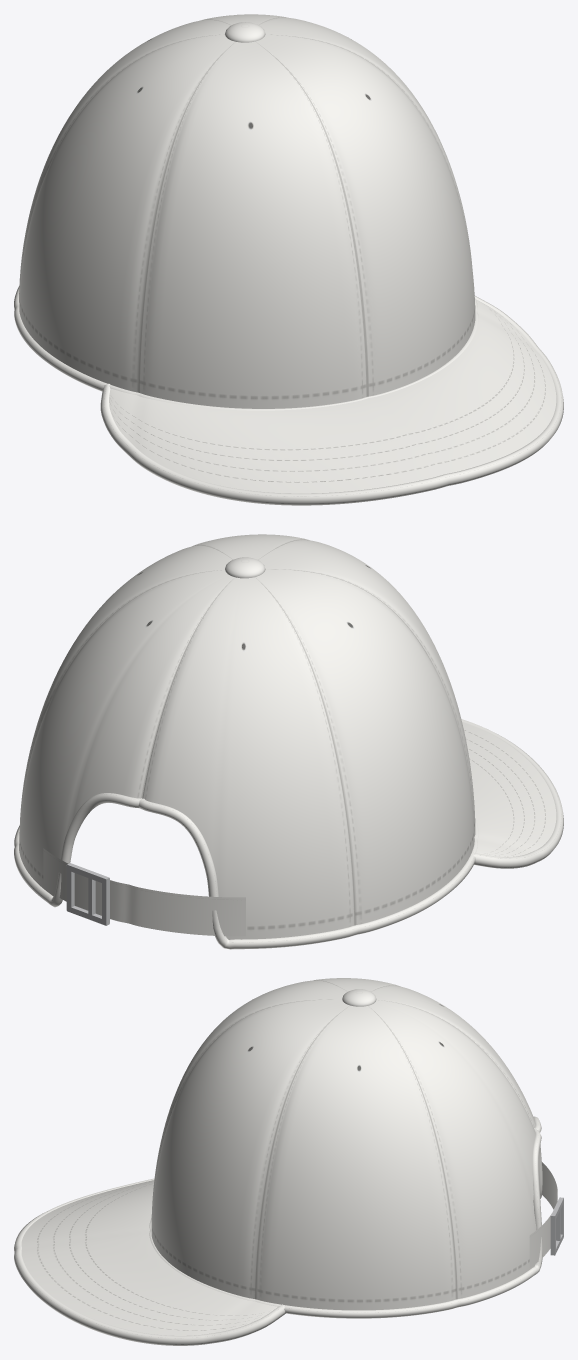
File: casquette.glb
3 renders of one model, top to bottom at view 1: azimuth 30°, elevation 25°; view 2: azimuth 150°, elevation 25°; view 3: azimuth 270°, elevation 25°, orthographic. The views are drawn at different scales.
Visible parts, largest first — view 1: Couronne, Visiere_dessus, Visiere_bord, Biais_bord, Bouton; view 2: Couronne, Visiere_dessus, Patte_arriere, Biais_bord, Visiere_bord, Bouton; view 3: Couronne, Visiere_dessus, Biais_bord, Visiere_bord, Patte_arriere, Bouton.
Part boxes in pixels (x1=…): Couronne: x1=19, y1=14, x2=475, y2=408; Visiere_dessus: x1=109, y1=299, x2=556, y2=493; Visiere_bord: x1=100, y1=296, x2=563, y2=505; Biais_bord: x1=14, y1=286, x2=478, y2=410; Bouton: x1=225, y1=22, x2=265, y2=42; Couronne: x1=19, y1=534, x2=475, y2=939; Visiere_dessus: x1=462, y1=722, x2=556, y2=856; Patte_arriere: x1=43, y1=848, x2=245, y2=936; Biais_bord: x1=14, y1=793, x2=478, y2=949; Visiere_bord: x1=461, y1=719, x2=563, y2=868; Bouton: x1=225, y1=557, x2=265, y2=578; Couronne: x1=151, y1=978, x2=536, y2=1310; Visiere_dessus: x1=21, y1=1180, x2=277, y2=1335; Biais_bord: x1=149, y1=1116, x2=542, y2=1318; Visiere_bord: x1=14, y1=1178, x2=285, y2=1345; Patte_arriere: x1=529, y1=1162, x2=557, y2=1267; Bouton: x1=342, y1=989, x2=376, y2=1006.
Size of the model in its own units: 0.2005 by 0.1499 by 0.272.
Materials: 4 (3 with a texture image).
